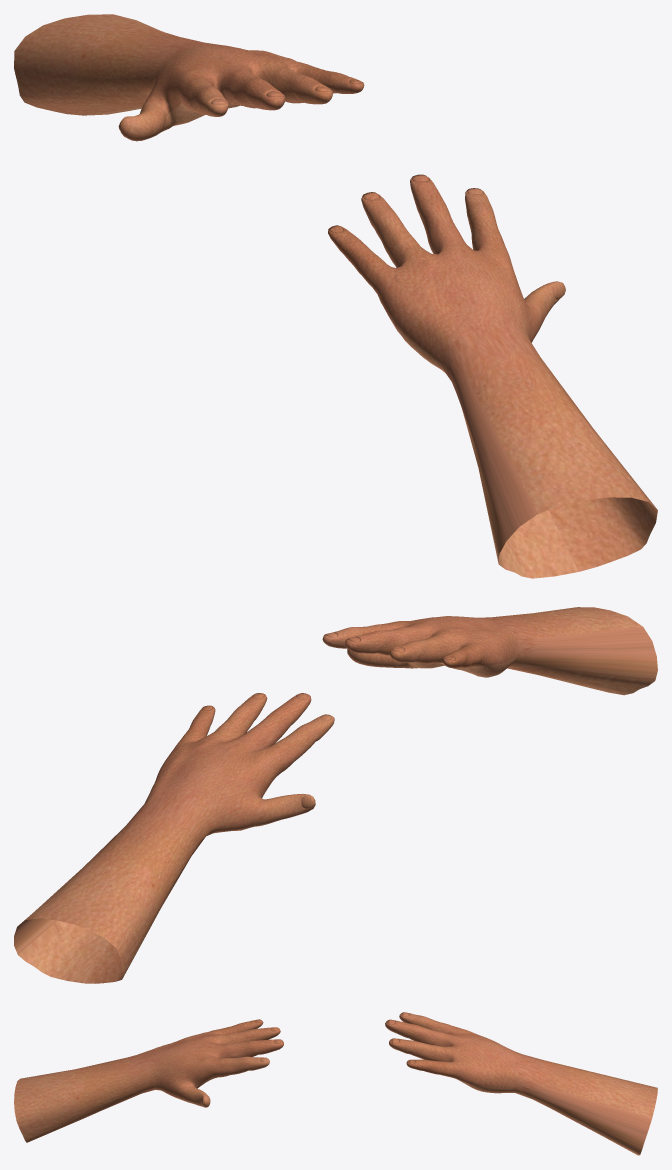
Rendered from hands_000006.obj.
3 views of the same model, one above another, from view 1: azimuth 30°, elevation 25°; view 2: azimuth 150°, elevation 25°; view 3: azimuth 270°, elevation 25° (orthographic). The views are drawn at different scales.
Parts seen in each view (by area): view 1: hand.001_Mesh.001, hand_Mesh; view 2: hand_Mesh, hand.001_Mesh.001; view 3: hand_Mesh, hand.001_Mesh.001.
Boxes of the visible parts, x1,y1,x2,y2 form: hand.001_Mesh.001: (328,174,657,578); hand_Mesh: (14,14,364,141); hand_Mesh: (14,693,334,983); hand.001_Mesh.001: (322,607,657,695); hand_Mesh: (385,1012,657,1155); hand.001_Mesh.001: (14,1019,283,1142).
Bounding box in the file's own units: 1.66 × 1.51 × 7.2.
Materials: 1 (1 with a texture image).
